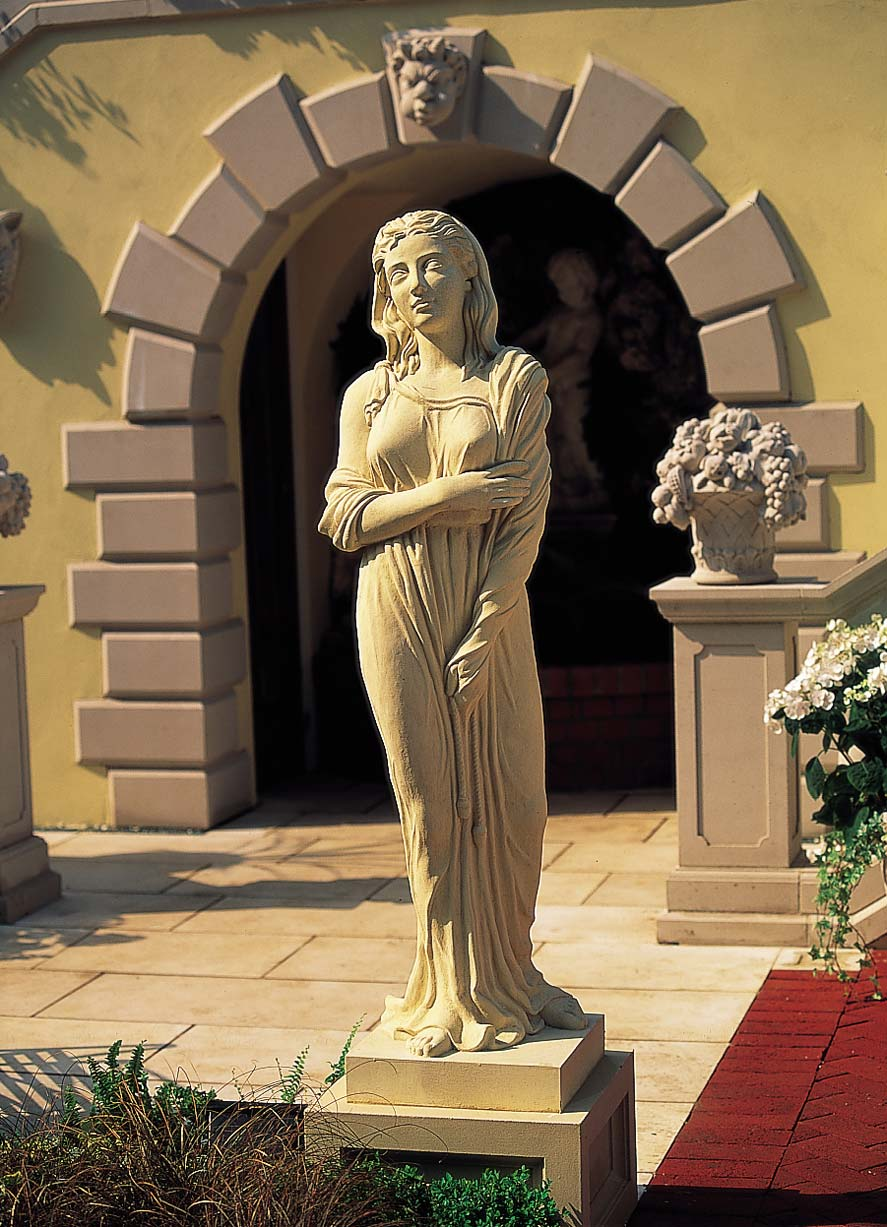person-like: (296, 193, 606, 1071)
